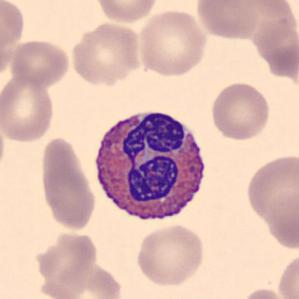Eosinophil: (88, 102, 214, 231)
RBC: (38, 134, 98, 234), (135, 7, 210, 78), (69, 20, 144, 87), (134, 221, 207, 288), (31, 227, 98, 289), (0, 72, 57, 144), (243, 152, 298, 223), (208, 80, 272, 141), (8, 37, 72, 89), (251, 17, 299, 86), (38, 261, 125, 299), (194, 0, 262, 41), (0, 0, 28, 78), (93, 0, 160, 24), (276, 251, 298, 299), (238, 286, 289, 299), (0, 115, 7, 181)
